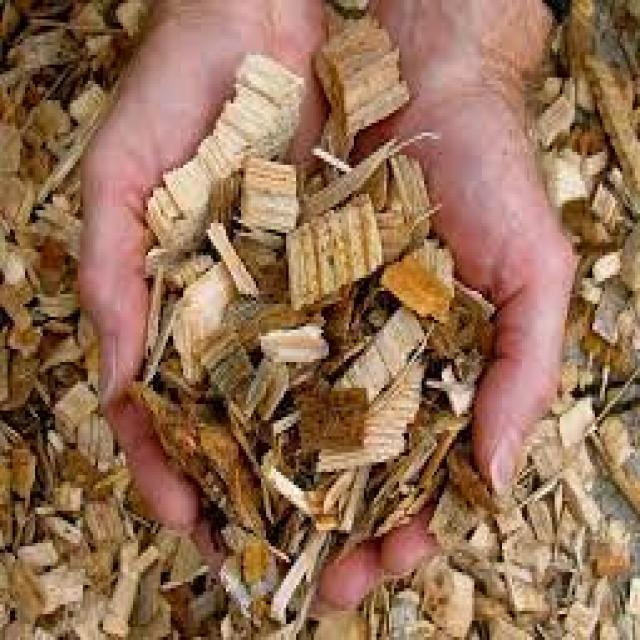green waste: (167, 41, 470, 580)
